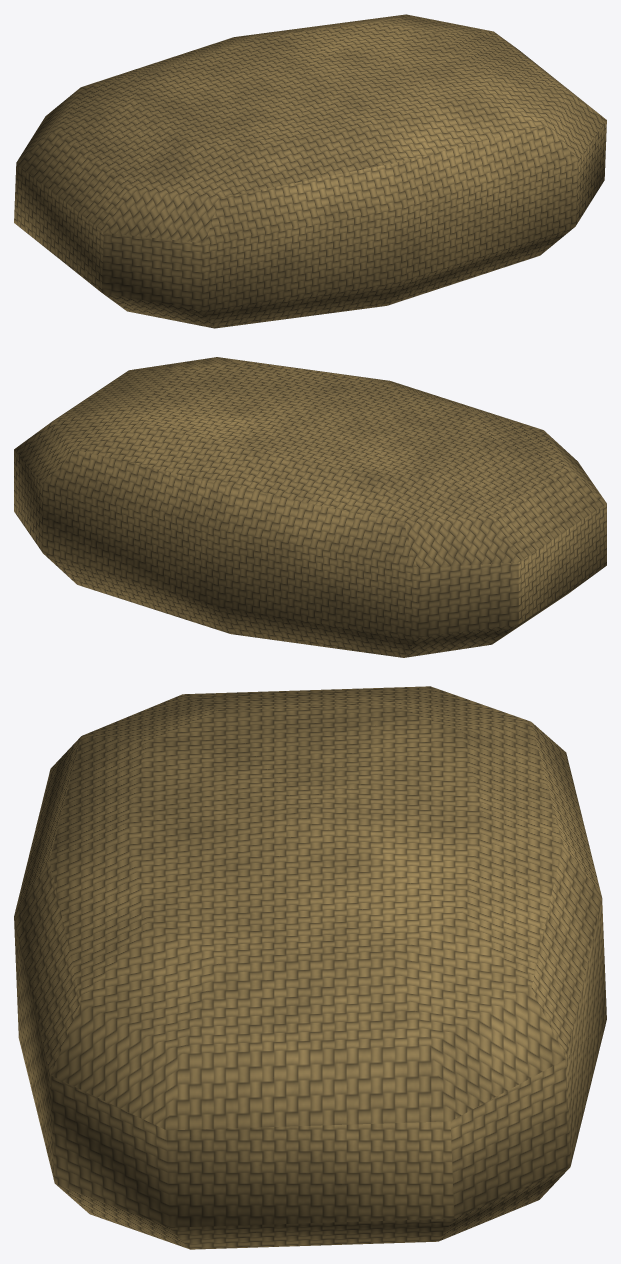
File: SM_Saco_Arena.fbx
3 views of the same model, one above another, from view 1: azimuth 30°, elevation 25°; view 2: azimuth 150°, elevation 25°; view 3: azimuth 270°, elevation 25° (orthographic). The views are drawn at different scales.
Parts seen in each view (by area): view 1: SM_Saco_Arena; view 2: SM_Saco_Arena; view 3: SM_Saco_Arena.
Part boxes in pixels (x1,y1,x2,y2): SM_Saco_Arena: (14, 14, 606, 328); SM_Saco_Arena: (14, 357, 606, 657); SM_Saco_Arena: (14, 686, 606, 1249).
Size of what is drawn, in the model's own units: 0.487 by 0.3069 by 0.1779.
